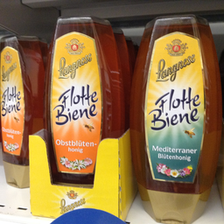honey: (132, 17, 222, 224), (50, 17, 124, 187), (1, 35, 46, 188)
